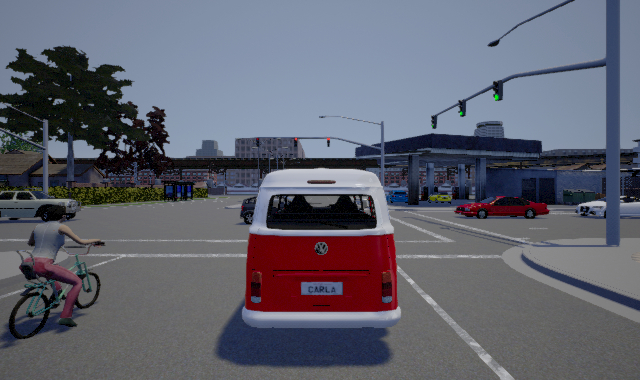bike: (6, 204, 106, 339)
traffic_light: (493, 80, 503, 101), (458, 99, 466, 117), (431, 115, 437, 129), (256, 137, 260, 147), (327, 137, 330, 147), (294, 137, 297, 147)
vehicle: (240, 168, 408, 328), (1, 189, 81, 221), (454, 196, 550, 219), (575, 195, 640, 217), (428, 191, 454, 205), (387, 189, 409, 205)
